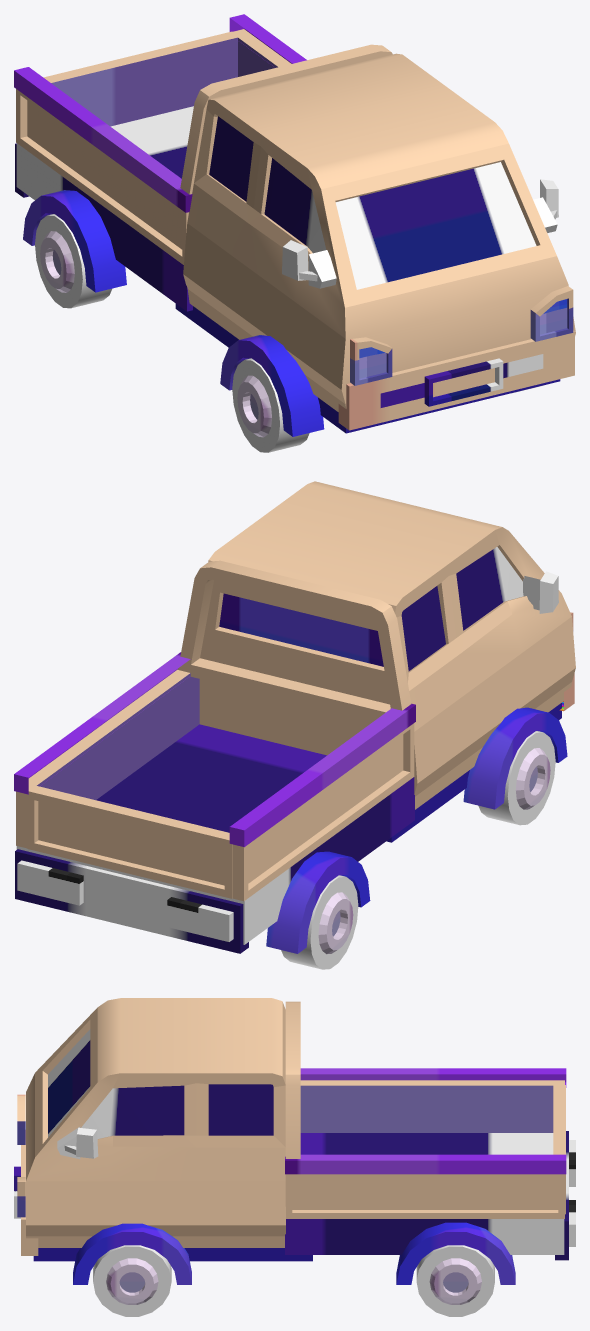
Rendered from Brown_Small_Truck_Open.fbx.
3 views of the same model, one above another, from view 1: azimuth 30°, elevation 25°; view 2: azimuth 150°, elevation 25°; view 3: azimuth 270°, elevation 25° (orthographic). The views are drawn at different scales.
Visible parts, largest first — view 1: Orange_Small_Truck, Orange_Small_Truckl_Back_Door; view 2: Orange_Small_Truck, Orange_Small_Truckl_Back_Door; view 3: Orange_Small_Truck, Orange_Small_Truckl_Back_Door.
Boxes of the visible parts, left/top/right/bottom form: Orange_Small_Truck: left=14, top=14, right=575, bottom=452; Orange_Small_Truckl_Back_Door: left=43, top=31, right=238, bottom=126; Orange_Small_Truck: left=14, top=481, right=575, bottom=969; Orange_Small_Truckl_Back_Door: left=27, top=785, right=232, bottom=898; Orange_Small_Truck: left=14, top=998, right=575, bottom=1316; Orange_Small_Truckl_Back_Door: left=553, top=1085, right=565, bottom=1214.
Size of the model in its own units: 201 by 185 by 417.
